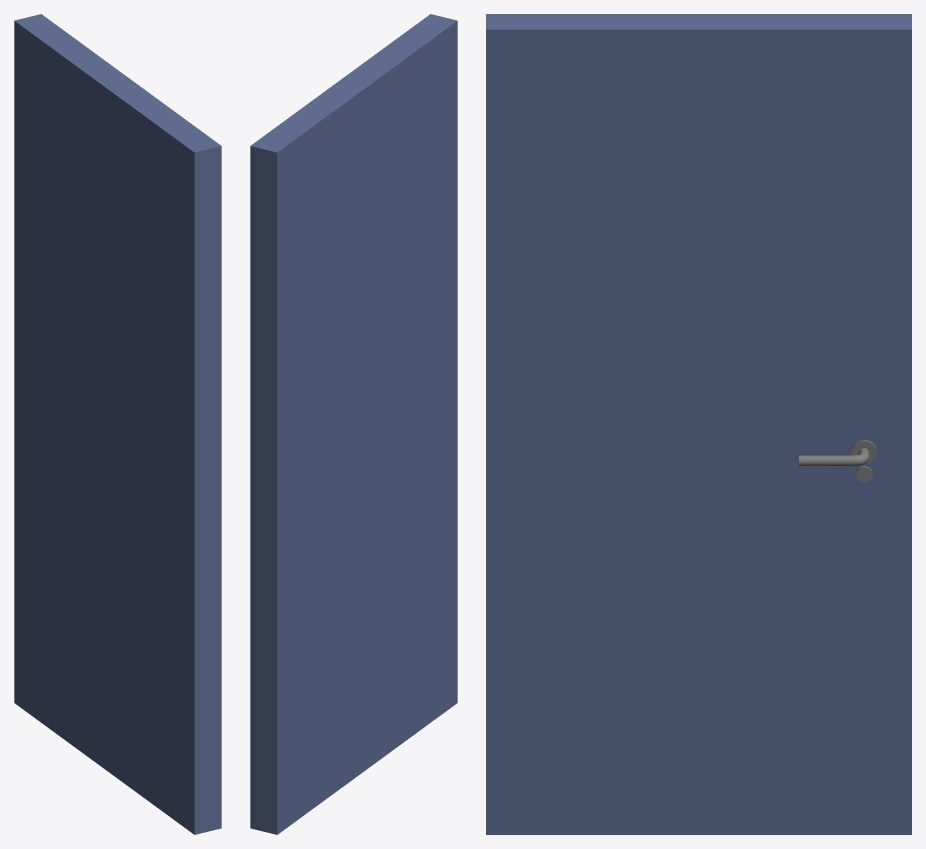
The model's file is PUERTA BAÑO.fbx.
3 views of the same model, side by side, from view 1: azimuth 30°, elevation 25°; view 2: azimuth 150°, elevation 25°; view 3: azimuth 270°, elevation 25° (orthographic). The views are drawn at different scales.
Parts seen in each view (by area): view 1: Box013; view 2: Box013; view 3: Box013.
Part boxes in pixels (x1,y1,x2,y2): Box013: [14, 14, 221, 834]; Box013: [250, 14, 457, 834]; Box013: [486, 14, 911, 834].
Size of the model in its own units: 1.73 by 24 by 11.5.
